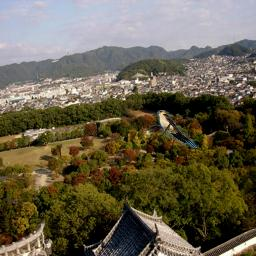Swallow: (157, 110, 197, 148)
